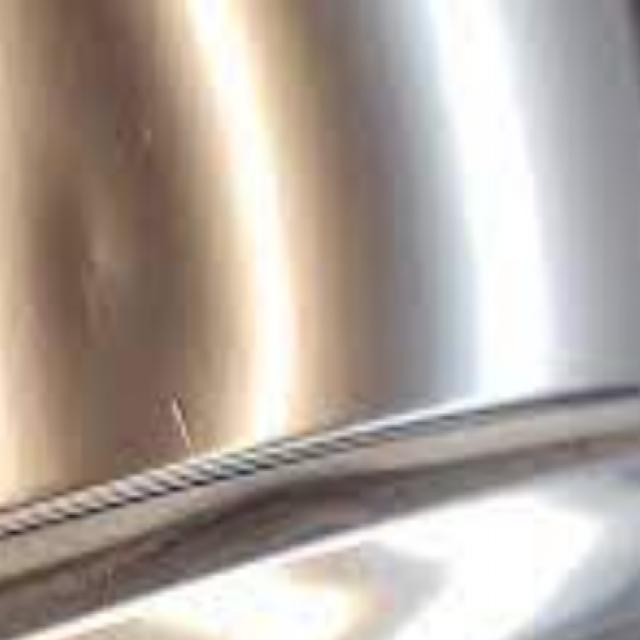dents: (40, 190, 138, 347), (163, 386, 204, 455)
